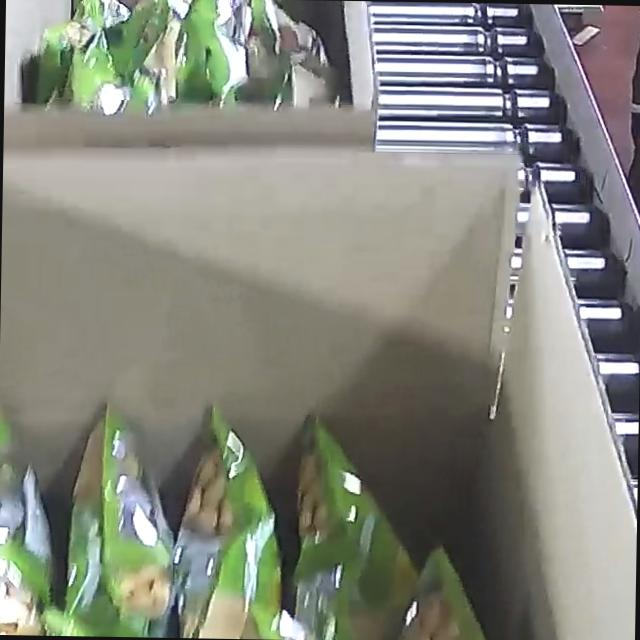yogurt: (0, 385, 490, 640), (27, 0, 344, 121)
